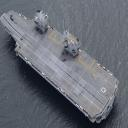Portanaves: (1, 7, 120, 126)
